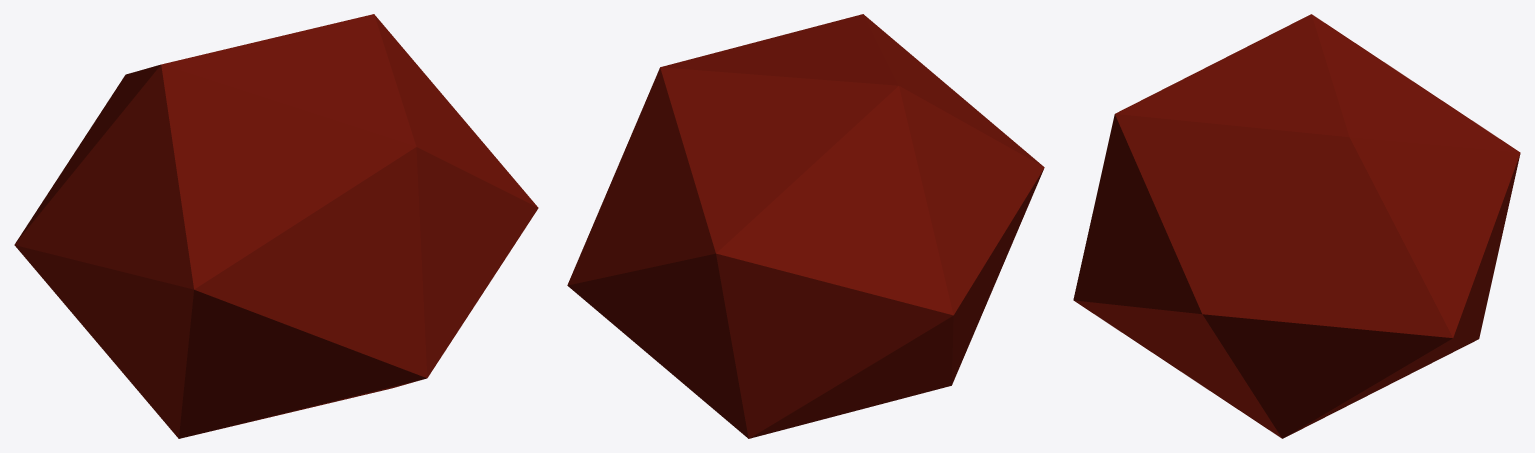
File: Platonic_18.gltf
The picture shows the model from 3 angles, left to right: view 1: azimuth 30°, elevation 25°; view 2: azimuth 150°, elevation 25°; view 3: azimuth 270°, elevation 25°; orthographic projection. The views are drawn at different scales.
Parts seen in each view (by area): view 1: Platonic_18; view 2: Platonic_18; view 3: Platonic_18.
Part boxes in pixels (bbox=[...]): Platonic_18: bbox=[14, 14, 538, 438]; Platonic_18: bbox=[567, 14, 1044, 438]; Platonic_18: bbox=[1073, 14, 1520, 438].
Bounding box in the file's own units: 49.53 × 41.1 × 50.46.
